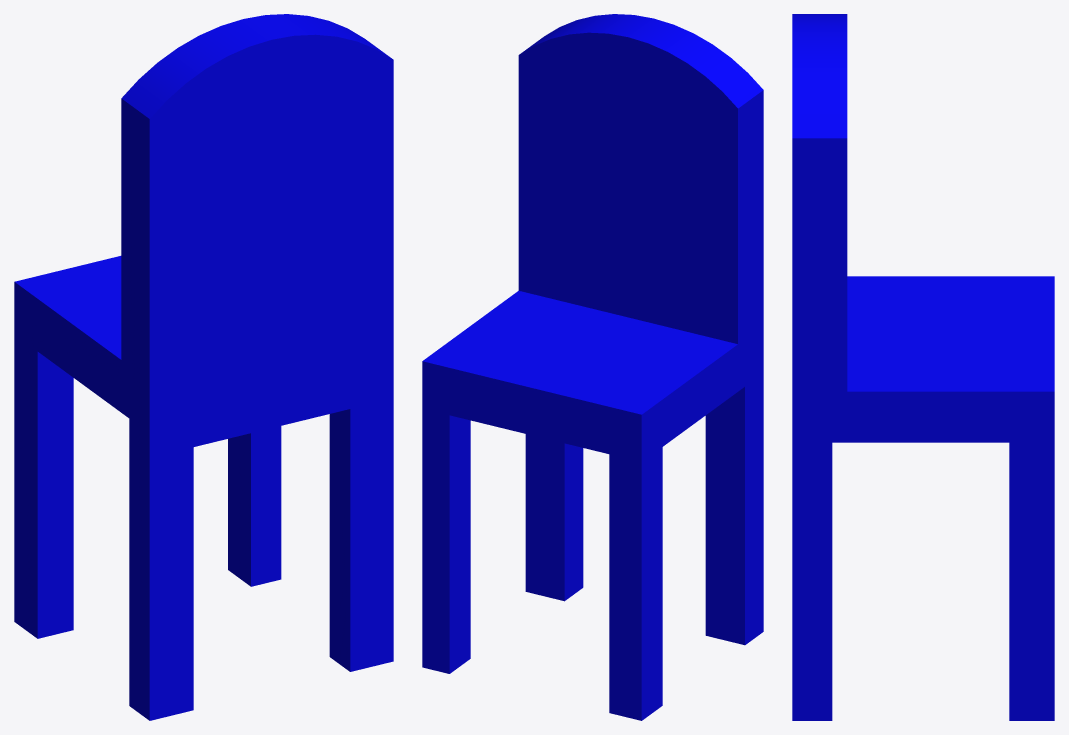
The picture shows the model from 3 angles, left to right: view 1: azimuth 30°, elevation 25°; view 2: azimuth 150°, elevation 25°; view 3: azimuth 270°, elevation 25°; orthographic projection. The views are drawn at different scales.
Parts seen in each view (by area): view 1: mesh1_mesh1-geometry; view 2: mesh1_mesh1-geometry; view 3: mesh1_mesh1-geometry.
Boxes of the visible parts, left/top/right/bottom form: mesh1_mesh1-geometry: left=14, top=14, right=393, bottom=720; mesh1_mesh1-geometry: left=422, top=14, right=763, bottom=720; mesh1_mesh1-geometry: left=792, top=14, right=1054, bottom=720.
Size of the model in its own units: 0.3441 by 0.8787 by 0.331.
